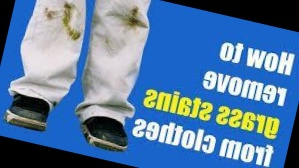earth: (123, 5, 143, 28), (62, 2, 76, 28), (65, 28, 81, 40), (43, 7, 57, 20)
